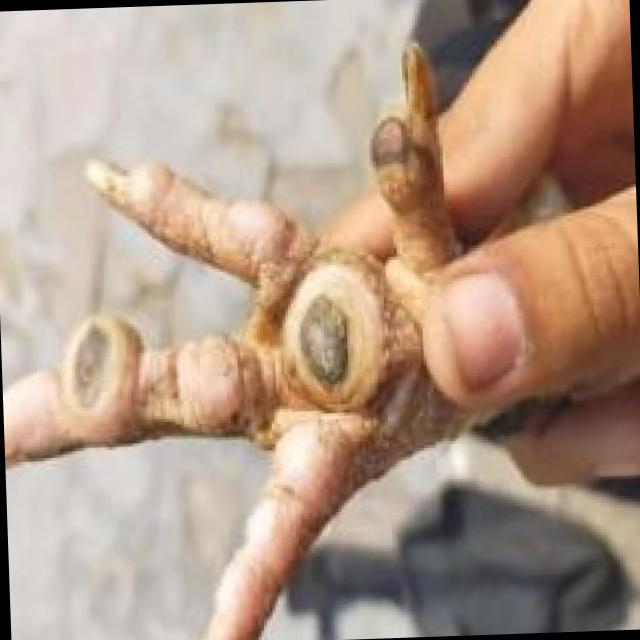Bumble foot: (28, 82, 460, 470)
